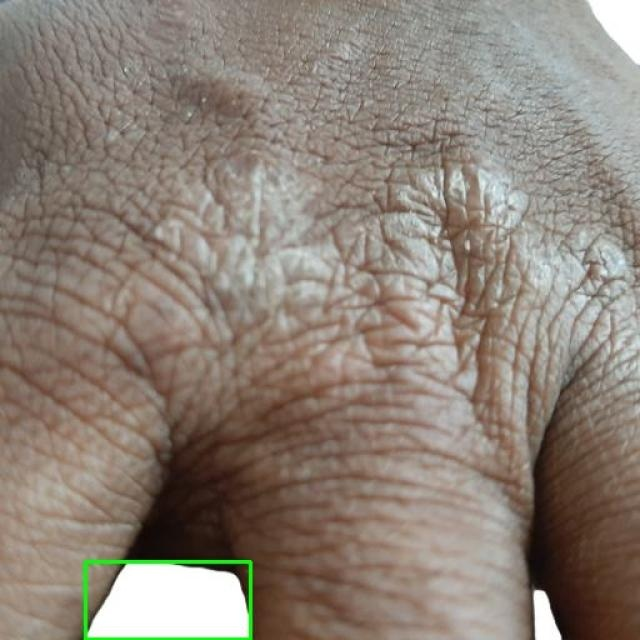Contact Dermatitis: (85, 561, 250, 639)
